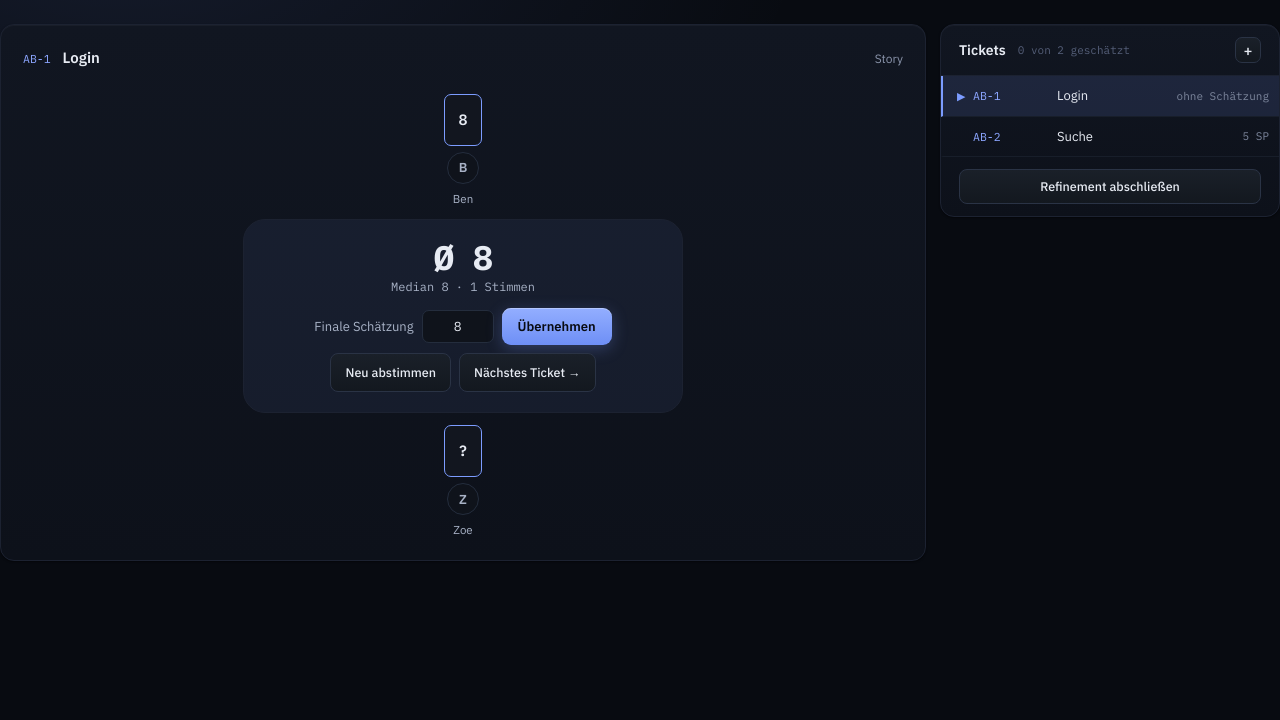
Test: RefinementVoting › der Moderator kann Tickets über das Plus-Modal nachlegen
Click the button named "Tickets hinzufügen". click: (1248, 50)
box: [1235,37,1261,63]
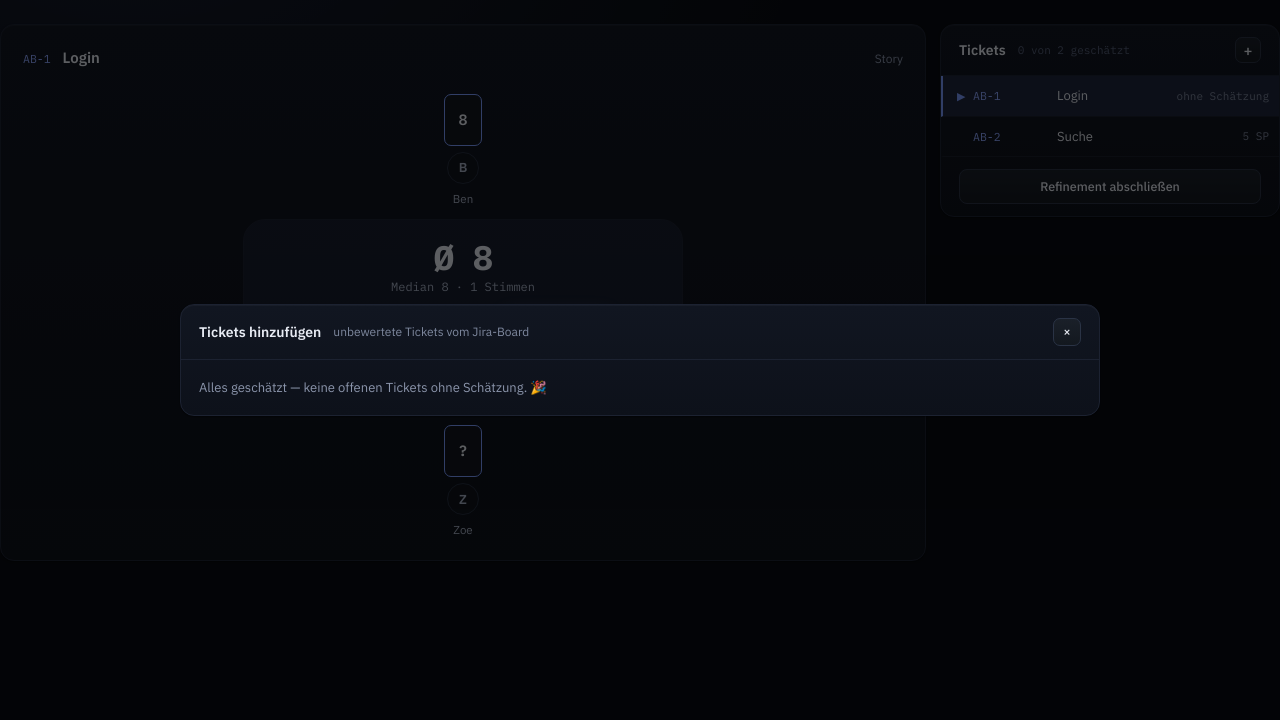
Now the dialog "Tickets hinzufügen" is shown
Now the text "Alles geschätzt — keine offenen Tickets ohne Schätzung. 🎉" is shown, box [199,379,547,396]
Click the button named "Schließen". click: (1067, 332)
box: [1053,318,1081,346]
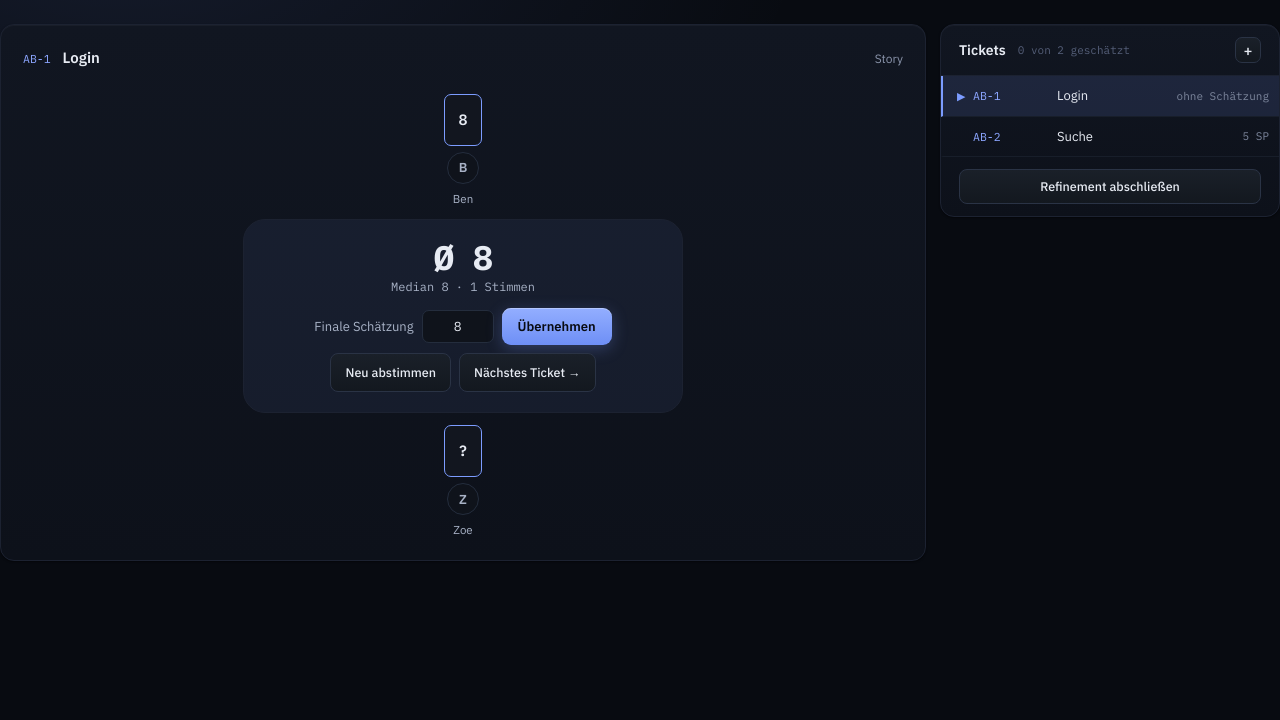
Now the dialog is gone
